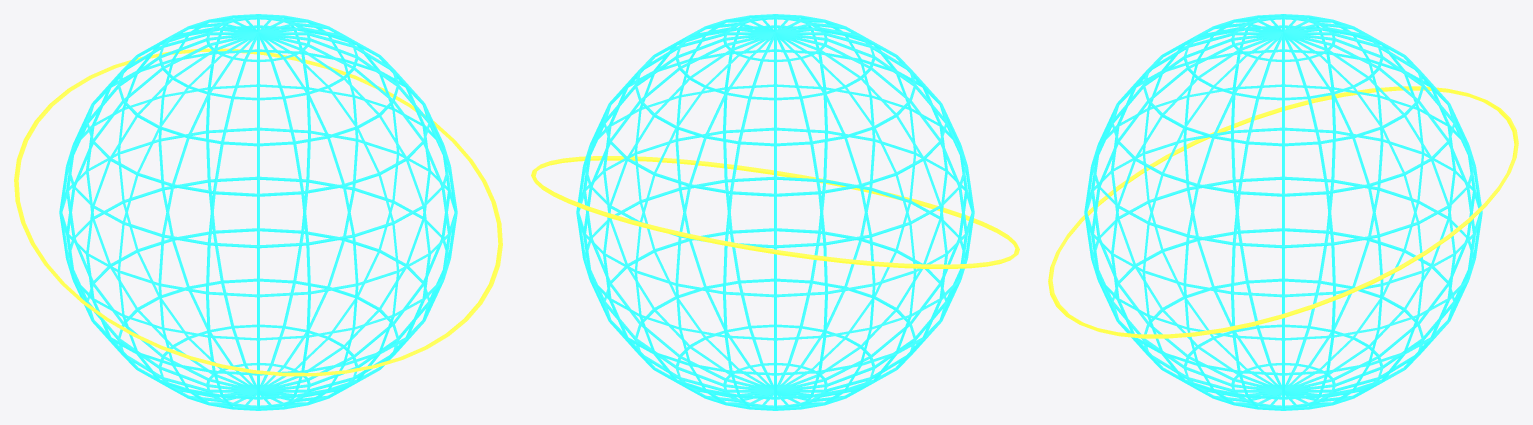
File: Globo.fbx
The picture shows the model from 3 angles, left to right: view 1: azimuth 30°, elevation 25°; view 2: azimuth 150°, elevation 25°; view 3: azimuth 270°, elevation 25°; orthographic projection.
Visible parts, largest first — view 1: Globo, Anillo; view 2: Globo, Anillo; view 3: Globo, Anillo.
Part boxes in pixels (left/top/right/bottom): Globo: left=59, top=14, right=457, bottom=410; Anillo: left=14, top=48, right=502, bottom=376; Globo: left=576, top=14, right=974, bottom=410; Anillo: left=531, top=156, right=1019, bottom=268; Globo: left=1084, top=14, right=1482, bottom=410; Anillo: left=1048, top=86, right=1518, bottom=338.
Size of the model in its own units: 1.25 by 1.01 by 1.19.
